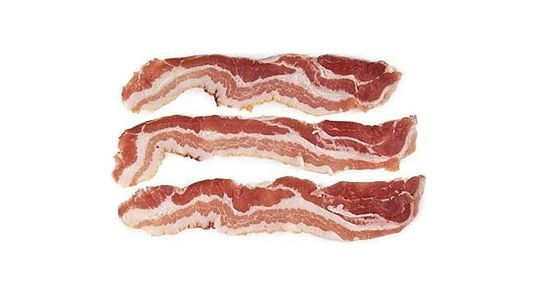bacon: (84, 171, 455, 252), (117, 49, 410, 122), (103, 118, 439, 178)
